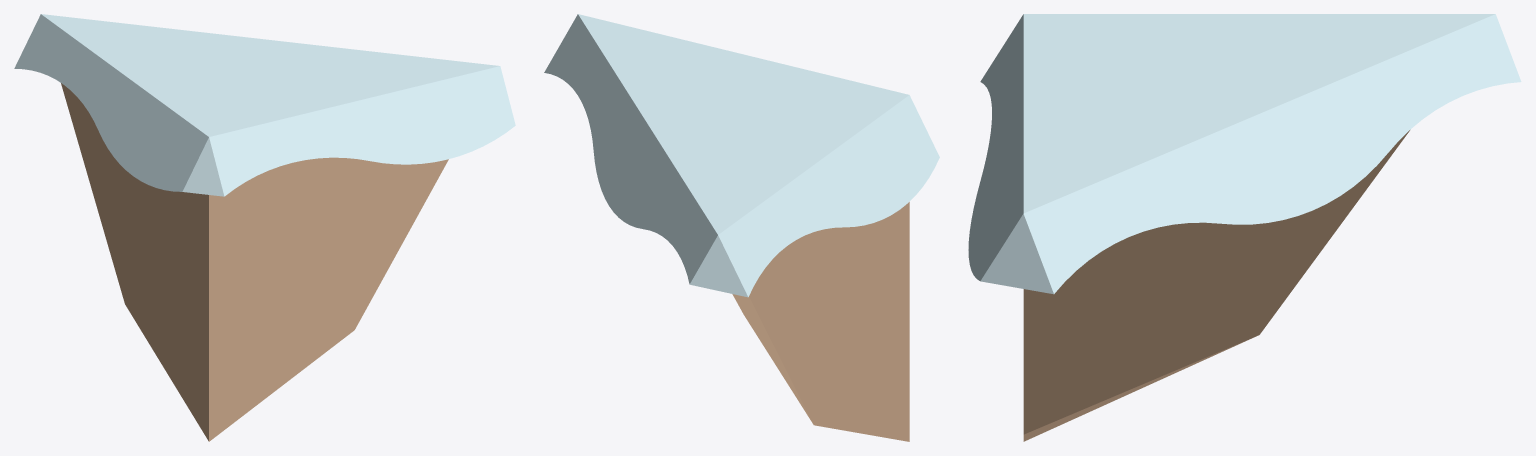
File: blockSnowCliffCorner.glb
3 views of the same model, side by side, from view 1: azimuth 30°, elevation 25°; view 2: azimuth 150°, elevation 25°; view 3: azimuth 270°, elevation 25° (orthographic). The views are drawn at different scales.
Parts seen in each view (by area): view 1: blockSnowCliffCorner; view 2: blockSnowCliffCorner; view 3: blockSnowCliffCorner.
Boxes of the visible parts, x1,y1,x2,y2 form: blockSnowCliffCorner: (14, 14, 515, 441); blockSnowCliffCorner: (544, 14, 939, 441); blockSnowCliffCorner: (968, 14, 1521, 441).
Size of the model in its own units: 1.18 by 1 by 1.17.
